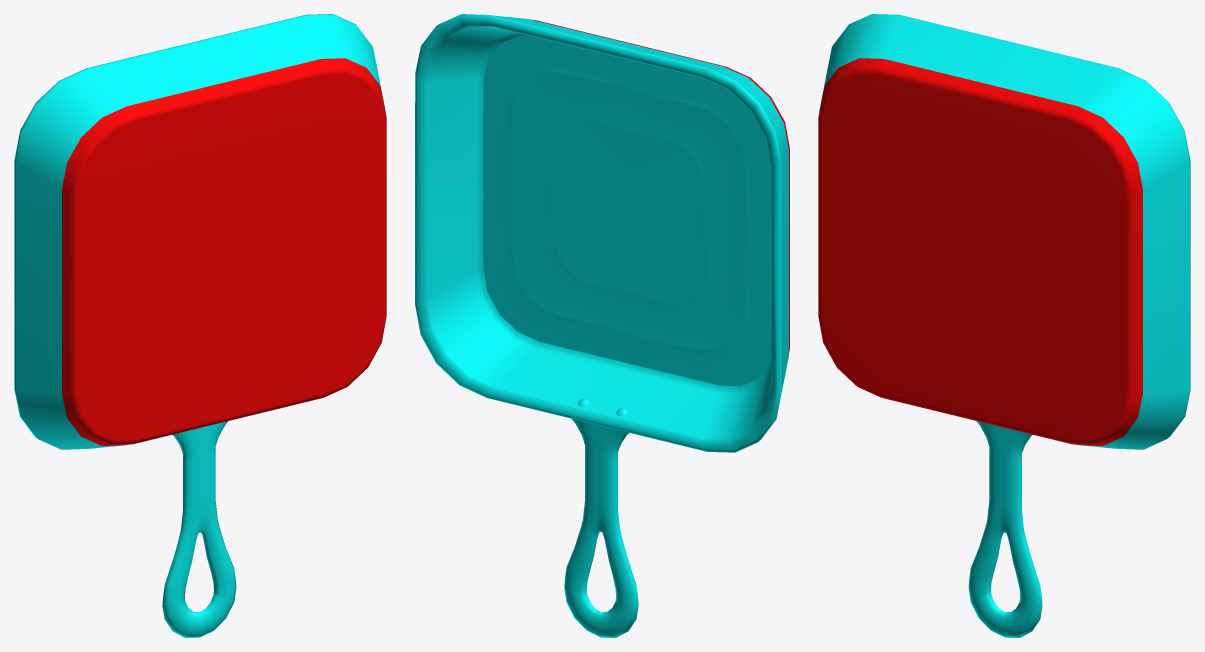
File: pan_rect.fbx
The picture shows the model from 3 angles, left to right: view 1: azimuth 30°, elevation 25°; view 2: azimuth 150°, elevation 25°; view 3: azimuth 330°, elevation 25°; orthographic projection.
Visible parts, largest first — view 1: pan_4; view 2: pan_4; view 3: pan_4.
Boxes of the visible parts, bbox=[...] form: pan_4: bbox=[14, 14, 386, 637]; pan_4: bbox=[415, 14, 789, 637]; pan_4: bbox=[818, 14, 1190, 637].
Size of the model in its own units: 2694 by 4213 by 462.
